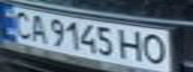1: (60, 19, 81, 51)
4: (78, 22, 100, 54)
5: (93, 25, 118, 57)
9: (45, 16, 66, 47)
A: (24, 12, 51, 43)
C: (6, 8, 36, 41)
H: (115, 28, 148, 62)
O: (139, 33, 172, 66)
